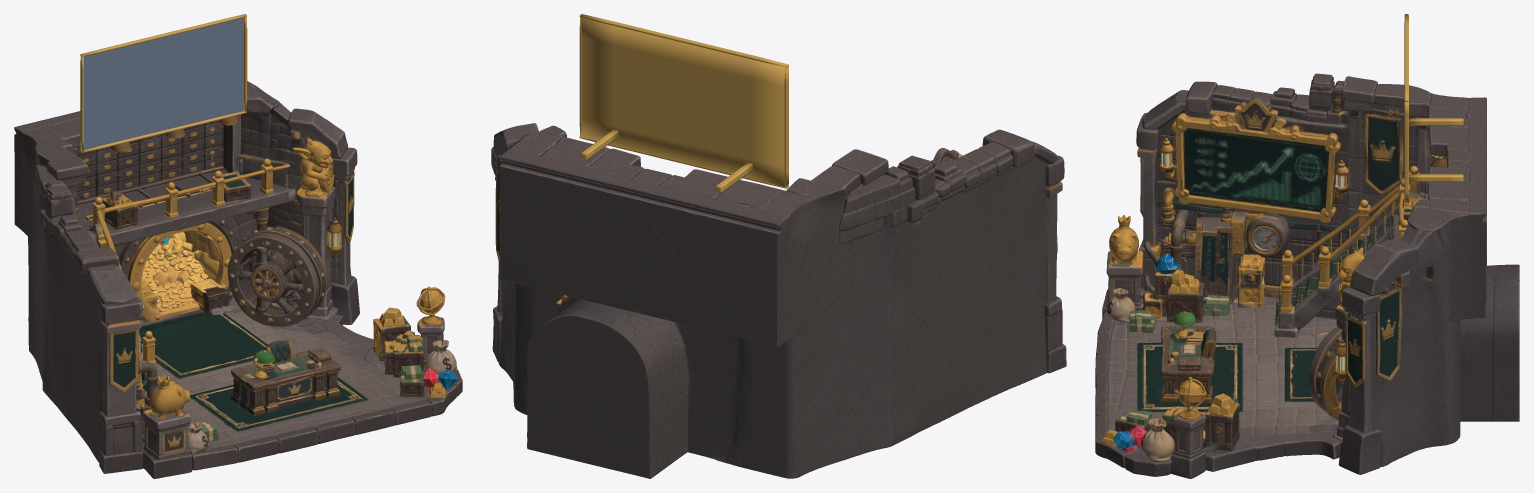
File: kfb-meshy-goblin-bank.screen-a.v1.glb
The picture shows the model from 3 angles, left to right: view 1: azimuth 30°, elevation 25°; view 2: azimuth 150°, elevation 25°; view 3: azimuth 270°, elevation 25°; orthographic projection. The views are drawn at different scales.
Visible parts, largest first — view 1: goblin_bank, kfb_screen_slot, kfb_screen_frame; view 2: goblin_bank, kfb_screen_frame; view 3: goblin_bank, kfb_screen_frame.
Boxes of the visible parts, bbox=[...] form: goblin_bank: bbox=[14, 81, 462, 478]; kfb_screen_slot: bbox=[83, 17, 244, 149]; kfb_screen_frame: bbox=[80, 14, 247, 153]; goblin_bank: bbox=[491, 123, 1066, 478]; kfb_screen_frame: bbox=[579, 14, 788, 193]; goblin_bank: bbox=[1095, 73, 1519, 478]; kfb_screen_frame: bbox=[1404, 14, 1463, 205].
Bounding box in the file's own units: 1.9 × 1.53 × 1.79.
3 materials, 1 textured.
